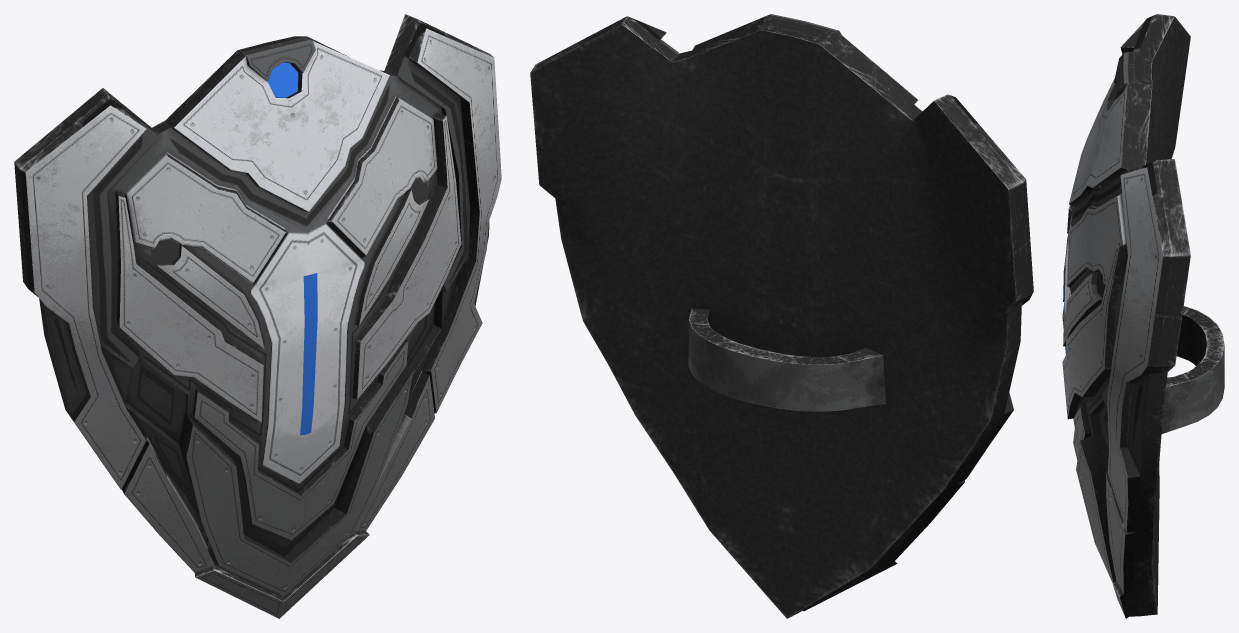
Rendered from Sci-Fi_Shield_IWB.glb.
The picture shows the model from 3 angles, left to right: view 1: azimuth 30°, elevation 25°; view 2: azimuth 150°, elevation 25°; view 3: azimuth 270°, elevation 25°; orthographic projection. The views are drawn at different scales.
Parts seen in each view (by area): view 1: unnamed (×2); view 2: unnamed; view 3: unnamed.
Boxes of the visible parts, x1,y1,x2,y2 form: unnamed (×2): [14, 14, 501, 618]; unnamed: [530, 14, 1033, 618]; unnamed: [1062, 14, 1224, 618].
Bounding box in the file's own units: 0.6322 × 0.7335 × 0.1948.
2 materials, 1 textured.
